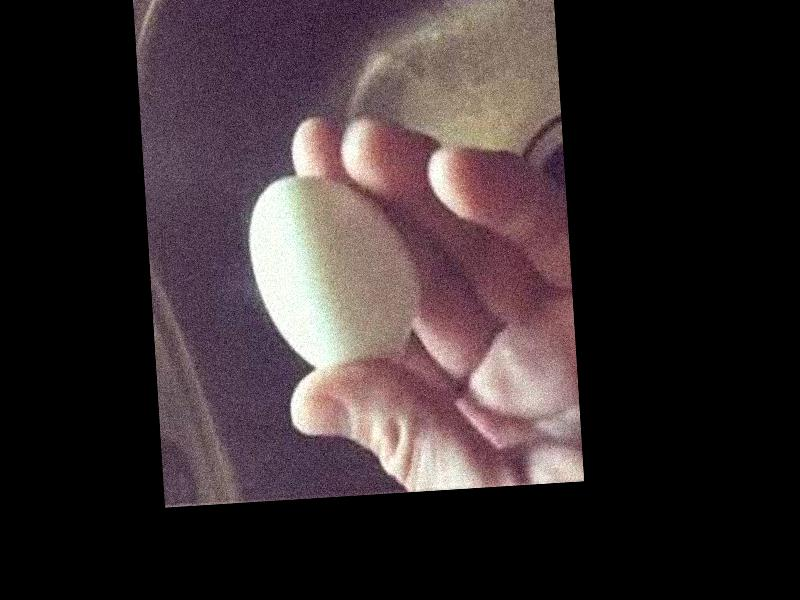Eggs: (245, 168, 421, 373)
